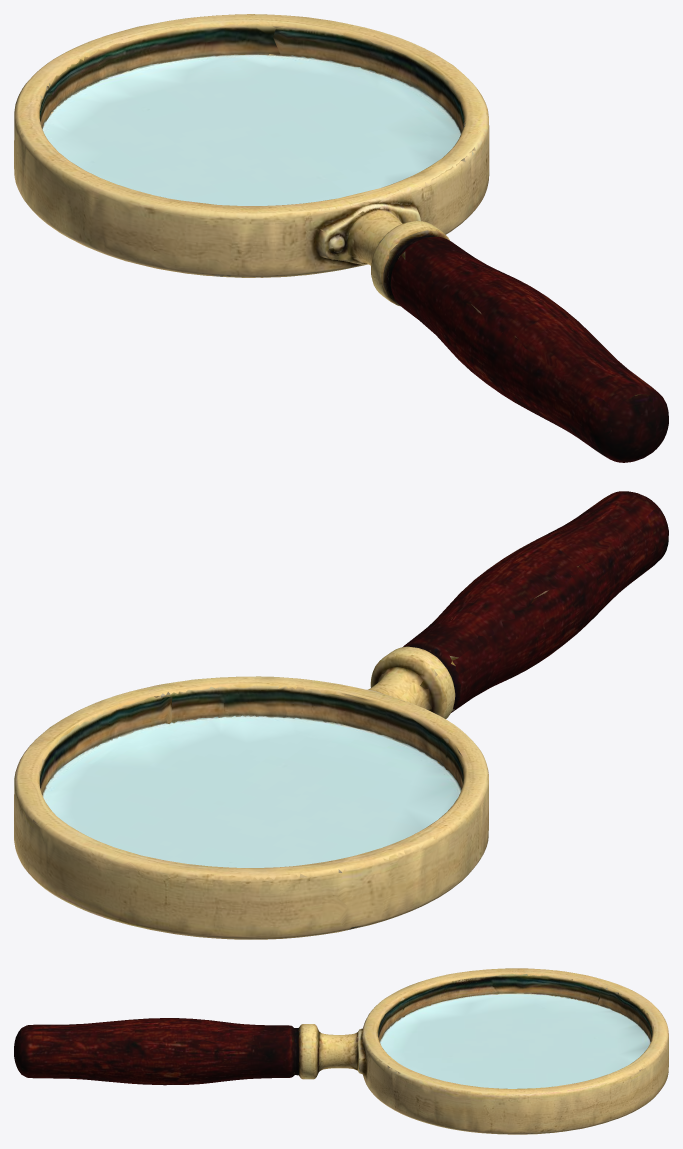
File: desk_magnifier.glb
3 views of the same model, one above another, from view 1: azimuth 30°, elevation 25°; view 2: azimuth 150°, elevation 25°; view 3: azimuth 270°, elevation 25° (orthographic). The views are drawn at different scales.
Visible parts, largest first — view 1: desk_magnifier; view 2: desk_magnifier; view 3: desk_magnifier.
Boxes of the visible parts, <box> form: desk_magnifier: <box>14,14,668,462</box>; desk_magnifier: <box>14,491,668,939</box>; desk_magnifier: <box>14,968,668,1134</box>.
Bounding box in the file's own units: 0.0921 × 0.0203 × 0.2.
Materials: 1 (1 with a texture image).
